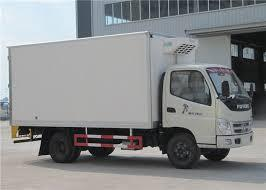truck: (147, 59, 262, 172)
